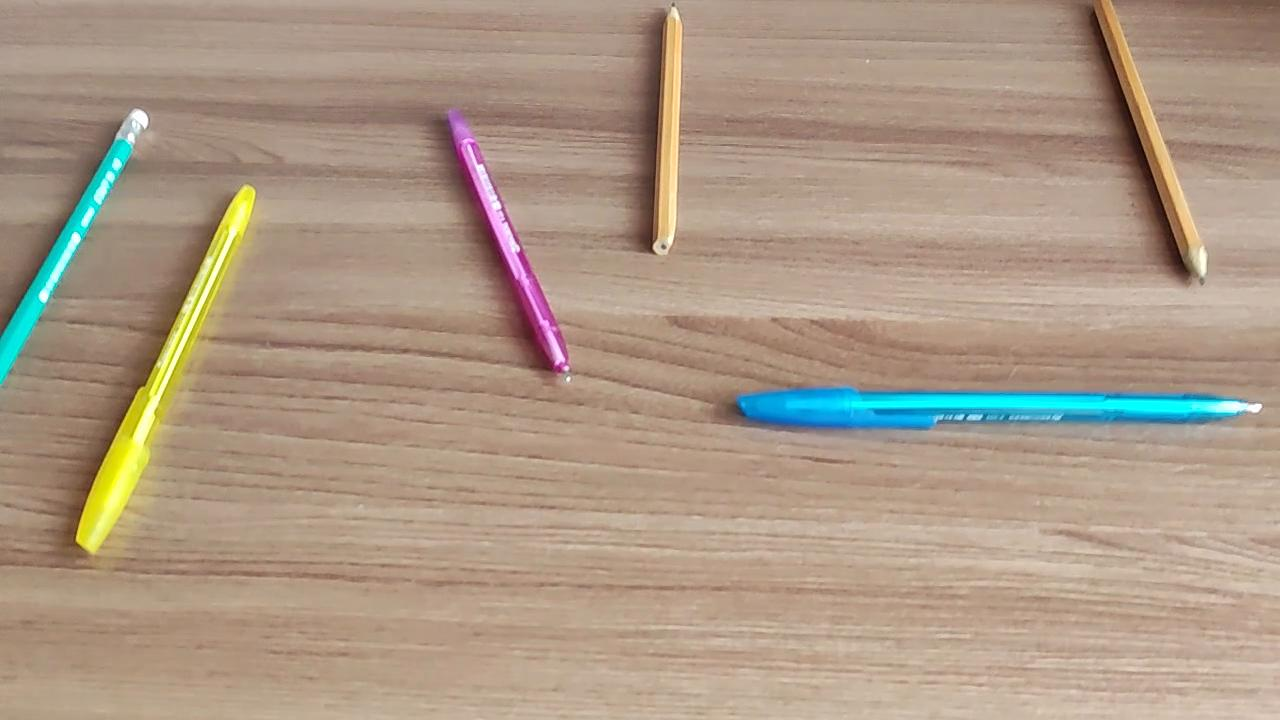pen: (74, 180, 263, 561), (443, 106, 575, 387), (731, 383, 1272, 431)
pencil: (0, 109, 159, 385), (1094, 0, 1212, 290), (646, 2, 688, 258)
